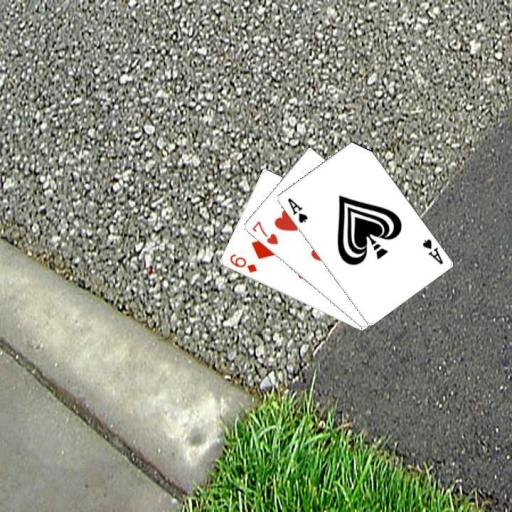6D: (226, 251, 258, 275)
7H: (248, 218, 280, 246)
AS: (419, 235, 444, 266), (284, 195, 309, 225)
